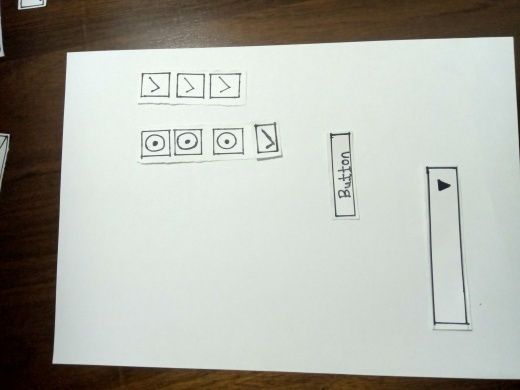button: (331, 132, 353, 216)
checkbox: (209, 74, 239, 99), (255, 126, 280, 153), (177, 74, 205, 98), (141, 75, 170, 95)
dropdown: (428, 168, 464, 324)
radio: (173, 129, 202, 155), (213, 130, 244, 152), (141, 133, 169, 155)
